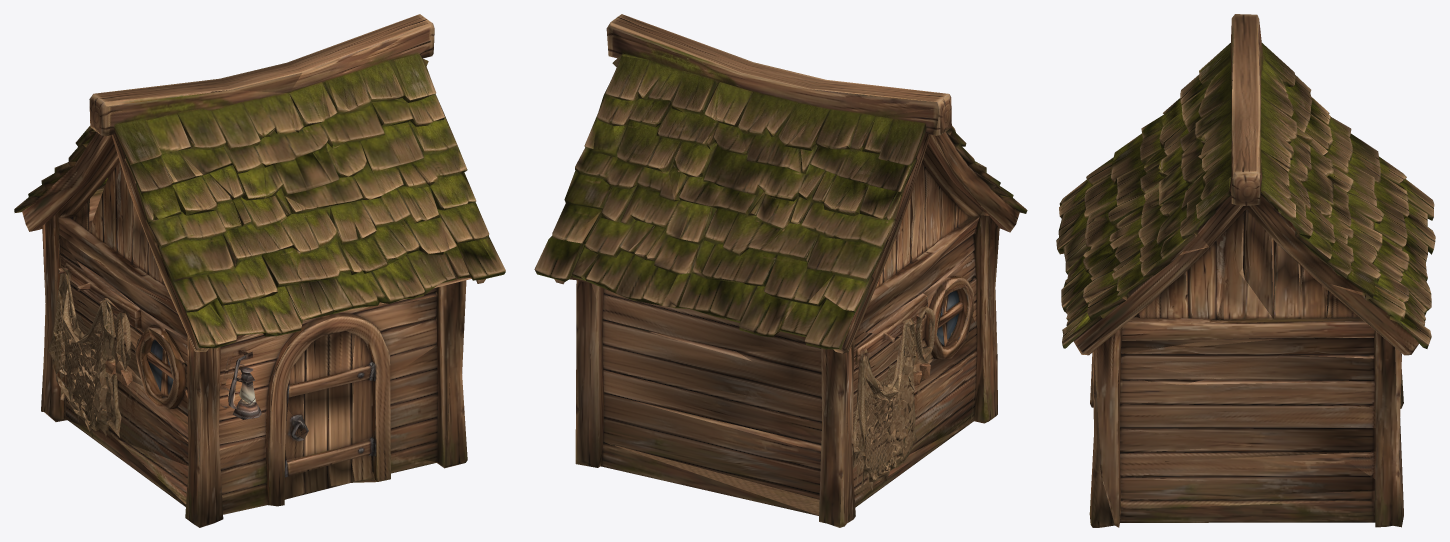
The model's file is Prop_Boathouse.fbx.
The picture shows the model from 3 angles, left to right: view 1: azimuth 30°, elevation 25°; view 2: azimuth 150°, elevation 25°; view 3: azimuth 270°, elevation 25°; orthographic projection.
Parts seen in each view (by area): view 1: Mesh_0; view 2: Mesh_0; view 3: Mesh_0.
Part boxes in pixels (x1,y1,x2,y2): Mesh_0: (14,14,505,527); Mesh_0: (534,14,1027,527); Mesh_0: (1056,14,1435,527).
Bounding box in the file's own units: 175 × 190 × 175.
Materials: 1 (1 with a texture image).
